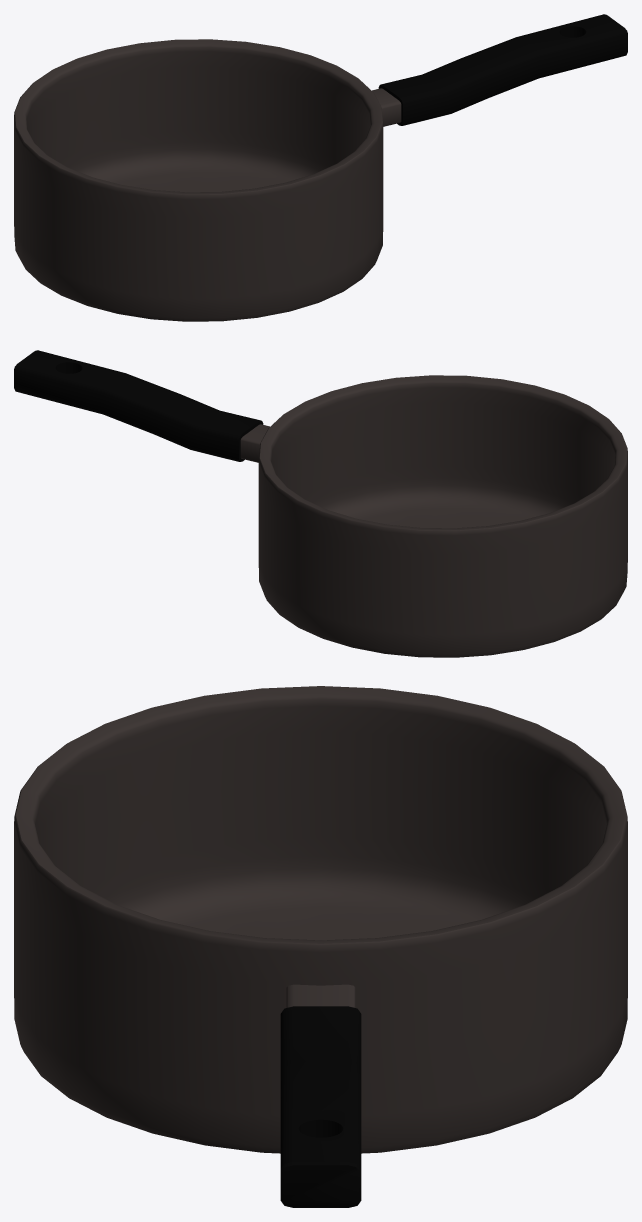
Rendered from HP_sauce_pot2.obj.
The picture shows the model from 3 angles, top to bottom: view 1: azimuth 30°, elevation 25°; view 2: azimuth 150°, elevation 25°; view 3: azimuth 270°, elevation 25°; orthographic projection. The views are drawn at different scales.
Parts seen in each view (by area): view 1: HP_sauce_pot2.001; view 2: HP_sauce_pot2.001; view 3: HP_sauce_pot2.001.
Part boxes in pixels (bbox=[...]): HP_sauce_pot2.001: bbox=[14, 14, 627, 321]; HP_sauce_pot2.001: bbox=[14, 350, 627, 657]; HP_sauce_pot2.001: bbox=[14, 686, 627, 1207].
Bounding box in the file's own units: 0.4726 × 0.0999 × 0.2619.
